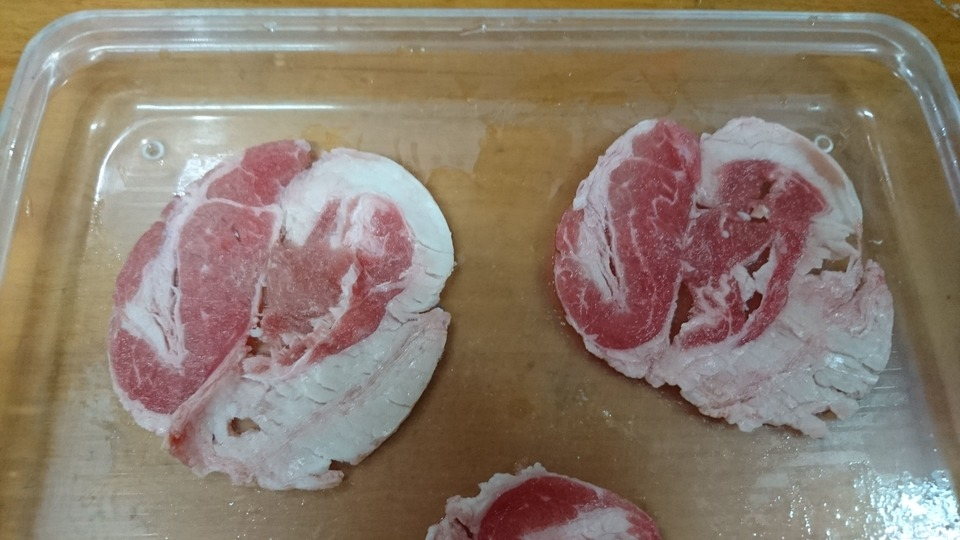restructured meat: (106, 138, 453, 497), (542, 87, 889, 446)
